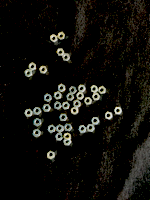nut: (47, 125, 56, 134), (33, 118, 42, 127), (47, 151, 55, 160), (33, 129, 41, 138), (55, 133, 64, 141), (63, 133, 72, 141), (91, 117, 100, 125), (64, 124, 73, 132), (59, 114, 68, 122), (24, 109, 33, 117), (114, 107, 123, 115), (84, 97, 93, 105), (53, 92, 62, 100), (66, 93, 75, 101), (58, 84, 66, 93), (69, 86, 77, 95), (98, 86, 107, 94), (62, 53, 70, 62), (50, 34, 58, 43), (79, 125, 87, 133), (87, 124, 95, 132), (56, 125, 64, 133), (105, 112, 113, 120), (71, 107, 79, 115), (33, 107, 41, 115), (54, 102, 62, 110), (62, 102, 70, 110), (73, 100, 81, 108), (44, 94, 52, 102), (76, 92, 84, 100), (92, 93, 100, 101), (78, 85, 86, 93), (91, 85, 99, 93), (28, 63, 36, 71), (39, 66, 47, 74), (58, 32, 66, 40), (42, 105, 51, 112), (25, 69, 32, 78), (56, 49, 65, 56), (63, 140, 72, 146)
